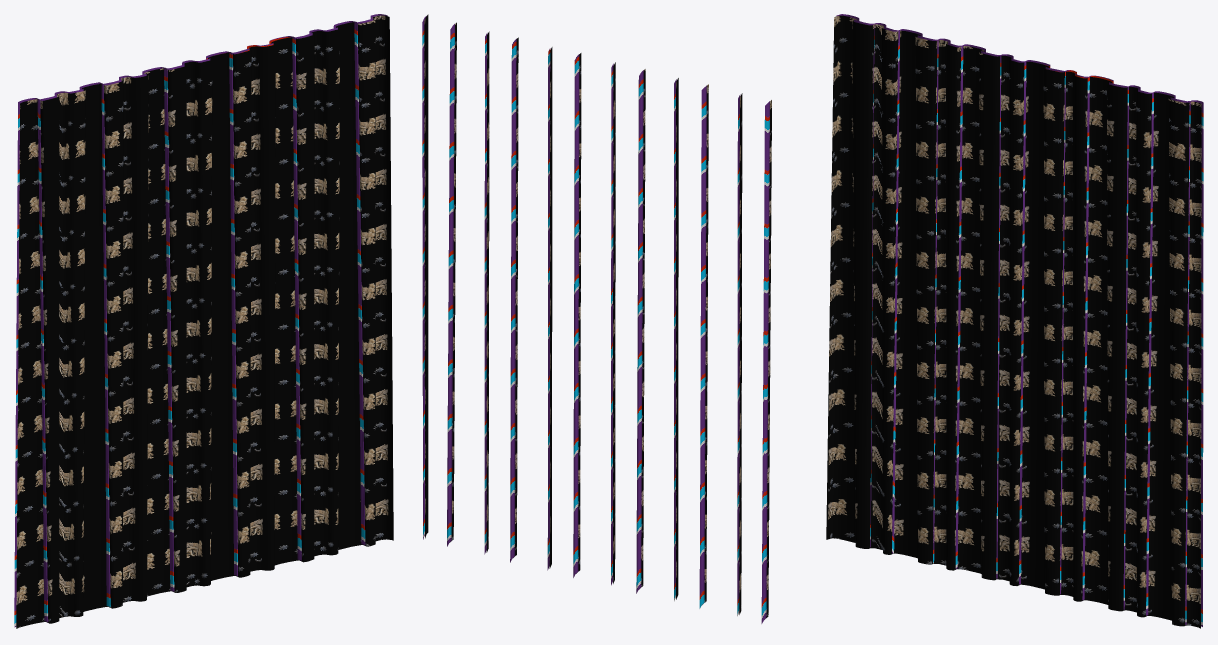
File: curtain.glb
3 renders of one model, left to right at view 1: azimuth 30°, elevation 25°; view 2: azimuth 150°, elevation 25°; view 3: azimuth 330°, elevation 25°, orthographic.
Visible parts, largest first — view 1: gold, curtain; view 2: curtain, gold; view 3: gold, curtain.
Part boxes in pixels (bbox=[...]): gold: bbox=[16, 15, 393, 628]; curtain: bbox=[14, 14, 387, 627]; curtain: bbox=[422, 16, 769, 623]; gold: bbox=[424, 14, 771, 619]; gold: bbox=[826, 15, 1201, 628]; curtain: bbox=[836, 14, 1203, 626].
Size of the model in its own units: 2.04 by 2.76 by 0.1112.
Materials: 2 (2 with a texture image).
